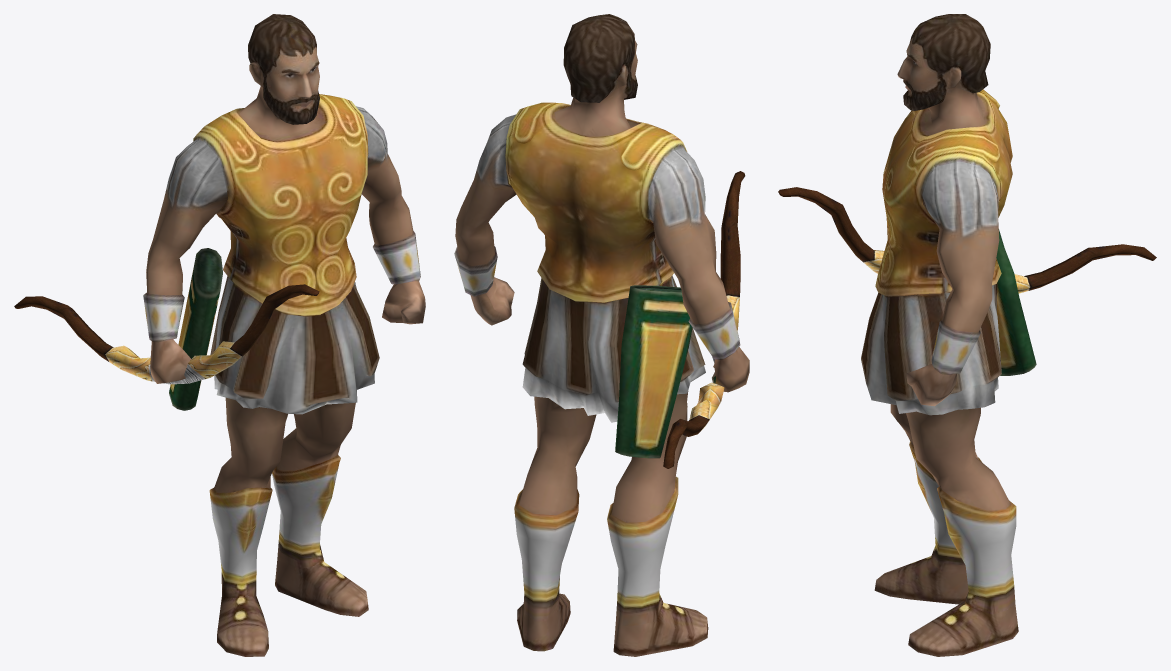
File: 95-odysseus.glb
3 views of the same model, side by side, from view 1: azimuth 30°, elevation 25°; view 2: azimuth 150°, elevation 25°; view 3: azimuth 270°, elevation 25° (orthographic). The views are drawn at different scales.
Bounding box in the file's own units: 1.39 × 2.6 × 1.48.
2 materials, 2 textured.
